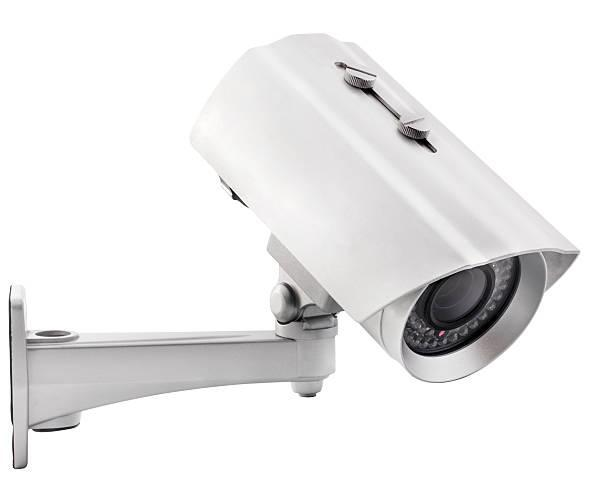camera: (201, 7, 603, 446)
